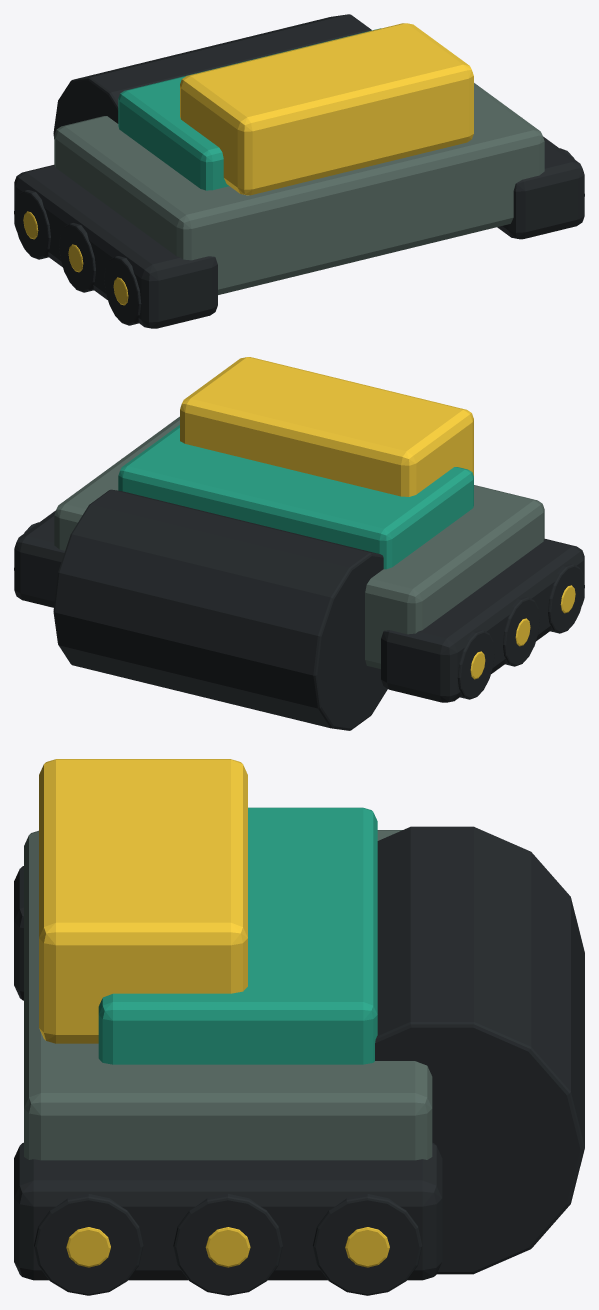
Rendered from SM_Coalition_CO_YuanCollector.fbx.
3 renders of one model, top to bottom at view 1: azimuth 30°, elevation 25°; view 2: azimuth 150°, elevation 25°; view 3: azimuth 270°, elevation 25°, orthographic. The views are drawn at different scales.
Parts seen in each view (by area): view 1: SM_Coalition_CO_YuanCollector, SM_Coalition_CO_YuanCollector_OreBin, SM_Coalition_CO_YuanCollector_Track_-1, SM_Coalition_CO_YuanCollector_Excavator, SM_Coalition_CO_YuanCollector_UpperHull, SM_Coalition_CO_YuanCollector_Track_+1, SM_Coalition_CO_YuanCollector_Wheel_01, SM_Coalition_CO_YuanCollector_Wheel_00, SM_Coalition_CO_YuanCollector_Wheel_00.001; view 2: SM_Coalition_CO_YuanCollector_Excavator, SM_Coalition_CO_YuanCollector_OreBin, SM_Coalition_CO_YuanCollector_UpperHull, SM_Coalition_CO_YuanCollector, SM_Coalition_CO_YuanCollector_Track_-1, SM_Coalition_CO_YuanCollector_Track_+1, SM_Coalition_CO_YuanCollector_Wheel_00, SM_Coalition_CO_YuanCollector_Wheel_00.001, SM_Coalition_CO_YuanCollector_Wheel_01; view 3: SM_Coalition_CO_YuanCollector_Excavator, SM_Coalition_CO_YuanCollector_OreBin, SM_Coalition_CO_YuanCollector, SM_Coalition_CO_YuanCollector_UpperHull, SM_Coalition_CO_YuanCollector_Track_+1, SM_Coalition_CO_YuanCollector_Wheel_04.001, SM_Coalition_CO_YuanCollector_Wheel_04, SM_Coalition_CO_YuanCollector_Wheel_05, SM_Coalition_CO_YuanCollector_Hub_04.001, SM_Coalition_CO_YuanCollector_Hub_05, SM_Coalition_CO_YuanCollector_Hub_04, SM_Coalition_CO_YuanCollector_Track_-1.
Part boxes in pixels (box(x1,y1,x2,y2)): SM_Coalition_CO_YuanCollector: box(54, 83, 544, 294); SM_Coalition_CO_YuanCollector_OreBin: box(180, 23, 473, 195); SM_Coalition_CO_YuanCollector_Track_-1: box(14, 165, 217, 328); SM_Coalition_CO_YuanCollector_Excavator: box(53, 14, 371, 138); SM_Coalition_CO_YuanCollector_UpperHull: box(118, 28, 380, 190); SM_Coalition_CO_YuanCollector_Track_+1: box(497, 136, 584, 239); SM_Coalition_CO_YuanCollector_Wheel_01: box(14, 190, 50, 259); SM_Coalition_CO_YuanCollector_Wheel_00: box(104, 256, 141, 325); SM_Coalition_CO_YuanCollector_Wheel_00.001: box(59, 223, 95, 292); SM_Coalition_CO_YuanCollector_Excavator: box(53, 489, 387, 730); SM_Coalition_CO_YuanCollector_OreBin: box(180, 357, 473, 496); SM_Coalition_CO_YuanCollector_UpperHull: box(118, 425, 473, 569); SM_Coalition_CO_YuanCollector: box(54, 416, 544, 668); SM_Coalition_CO_YuanCollector_Track_-1: box(381, 539, 584, 702); SM_Coalition_CO_YuanCollector_Track_+1: box(14, 510, 64, 607); SM_Coalition_CO_YuanCollector_Wheel_00: box(548, 563, 584, 633); SM_Coalition_CO_YuanCollector_Wheel_00.001: box(503, 597, 539, 666); SM_Coalition_CO_YuanCollector_Wheel_01: box(457, 630, 494, 699); SM_Coalition_CO_YuanCollector_Excavator: box(375, 826, 584, 1274); SM_Coalition_CO_YuanCollector_OreBin: box(39, 759, 247, 1043); SM_Coalition_CO_YuanCollector: box(24, 830, 432, 1160); SM_Coalition_CO_YuanCollector_UpperHull: box(98, 807, 377, 1064); SM_Coalition_CO_YuanCollector_Track_+1: box(14, 1142, 442, 1280); SM_Coalition_CO_YuanCollector_Wheel_04.001: box(173, 1194, 282, 1295); SM_Coalition_CO_YuanCollector_Wheel_04: box(34, 1194, 143, 1295); SM_Coalition_CO_YuanCollector_Wheel_05: box(312, 1194, 422, 1295); SM_Coalition_CO_YuanCollector_Hub_04.001: box(205, 1227, 250, 1267); SM_Coalition_CO_YuanCollector_Hub_05: box(345, 1227, 389, 1267); SM_Coalition_CO_YuanCollector_Hub_04: box(66, 1227, 110, 1267); SM_Coalition_CO_YuanCollector_Track_-1: box(14, 866, 23, 1000).
Size of what is drawn, in the model's own units: 563 by 401 by 260.
